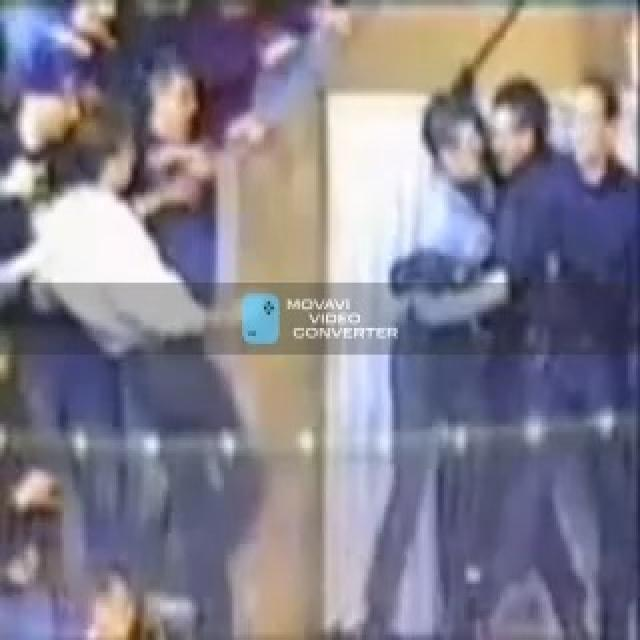non-voilence: (0, 0, 638, 637), (354, 0, 638, 637)
